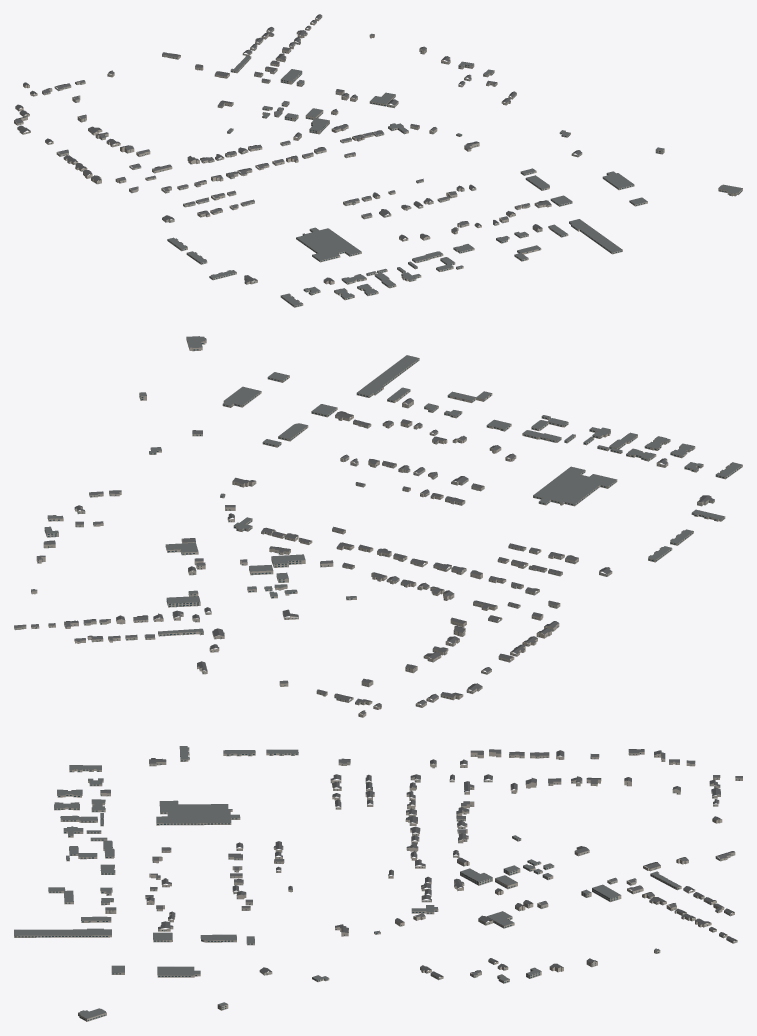
The picture shows the model from 3 angles, top to bottom: view 1: azimuth 30°, elevation 25°; view 2: azimuth 150°, elevation 25°; view 3: azimuth 270°, elevation 25°; orthographic projection. The views are drawn at different scales.
Parts seen in each view (by area): view 1: Buildings (-3, 0) Masonry brick, Buildings (-3, 0) Roof membrane, Buildings (-3, 0) Roof shingles, Buildings (-3, 0) House siding, Buildings (-3, 0) Architectural tinted glass; view 2: Buildings (-3, 0) Masonry brick, Buildings (-3, 0) Roof membrane, Buildings (-3, 0) Roof shingles, Buildings (-3, 0) House siding, Buildings (-3, 0) Architectural tinted glass; view 3: Buildings (-3, 0) Roof membrane, Buildings (-3, 0) Masonry brick, Buildings (-3, 0) Roof shingles, Buildings (-3, 0) Architectural tinted glass, Buildings (-3, 0) House siding, Buildings (-3, 0) Metal coping.
Part boxes in pixels (<box>): Buildings (-3, 0) Masonry brick: <box>14,21,742,307</box>; Buildings (-3, 0) Roof membrane: <box>168,33,742,305</box>; Buildings (-3, 0) Roof shingles: <box>14,14,581,282</box>; Buildings (-3, 0) House siding: <box>42,16,582,284</box>; Buildings (-3, 0) Architectural tinted glass: <box>14,17,741,306</box>; Buildings (-3, 0) Masonry brick: <box>31,337,742,717</box>; Buildings (-3, 0) Roof membrane: <box>31,336,742,633</box>; Buildings (-3, 0) Roof shingles: <box>14,398,714,714</box>; Buildings (-3, 0) House siding: <box>14,421,714,705</box>; Buildings (-3, 0) Architectural tinted glass: <box>14,341,741,716</box>; Buildings (-3, 0) Roof membrane: <box>14,746,680,1018</box>; Buildings (-3, 0) Masonry brick: <box>14,747,742,1021</box>; Buildings (-3, 0) Roof shingles: <box>100,749,742,977</box>; Buildings (-3, 0) Architectural tinted glass: <box>15,752,739,1020</box>; Buildings (-3, 0) House siding: <box>145,760,737,980</box>; Buildings (-3, 0) Metal coping: <box>14,749,681,1018</box>.
Bounding box in the file's own units: 959 × 12.1 × 1080.
